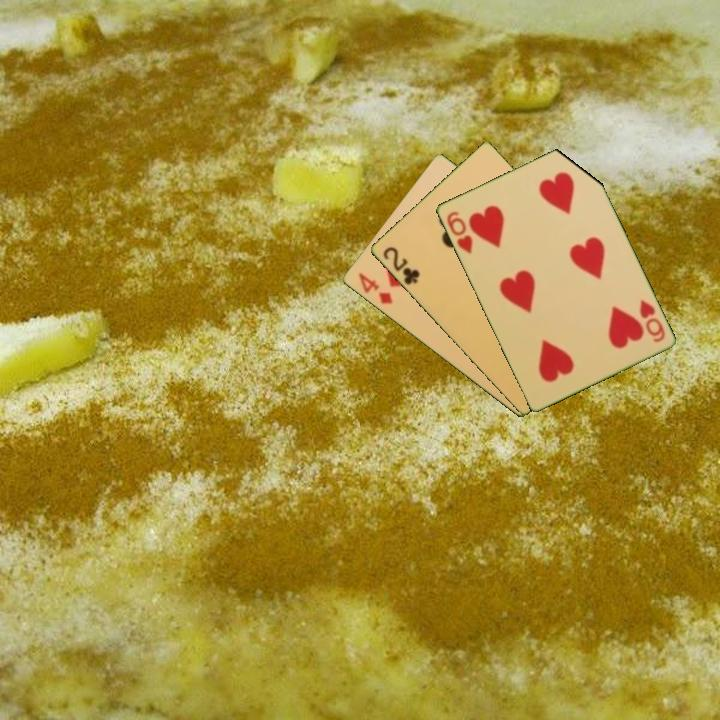2c: (379, 243, 423, 288)
4d: (355, 269, 395, 307)
6h: (443, 208, 475, 257), (636, 296, 668, 345)
